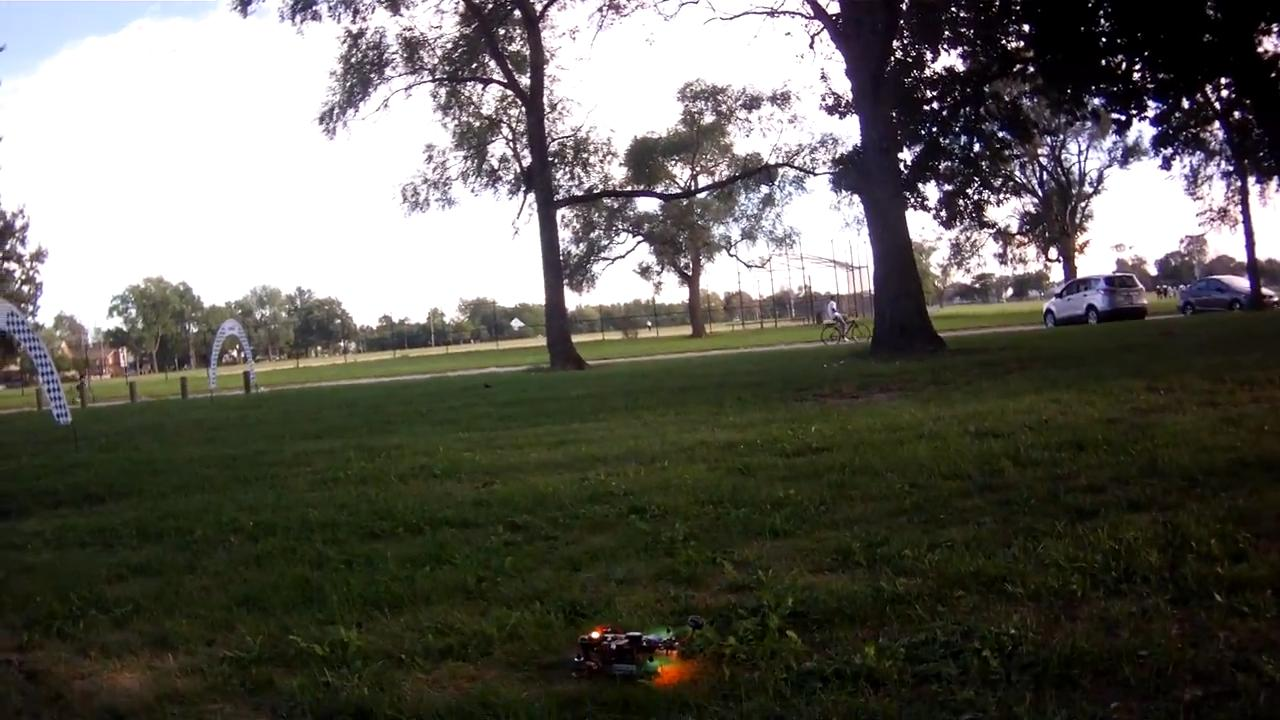gate: (204, 316, 260, 392)
